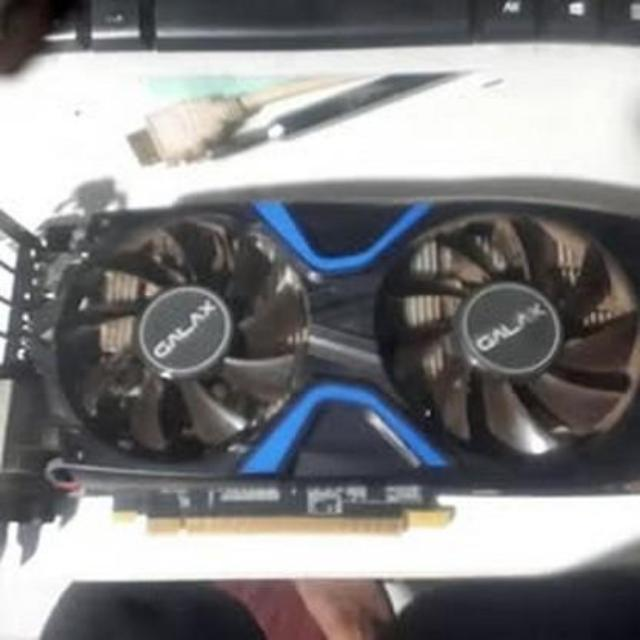GPU: (0, 197, 640, 535)
